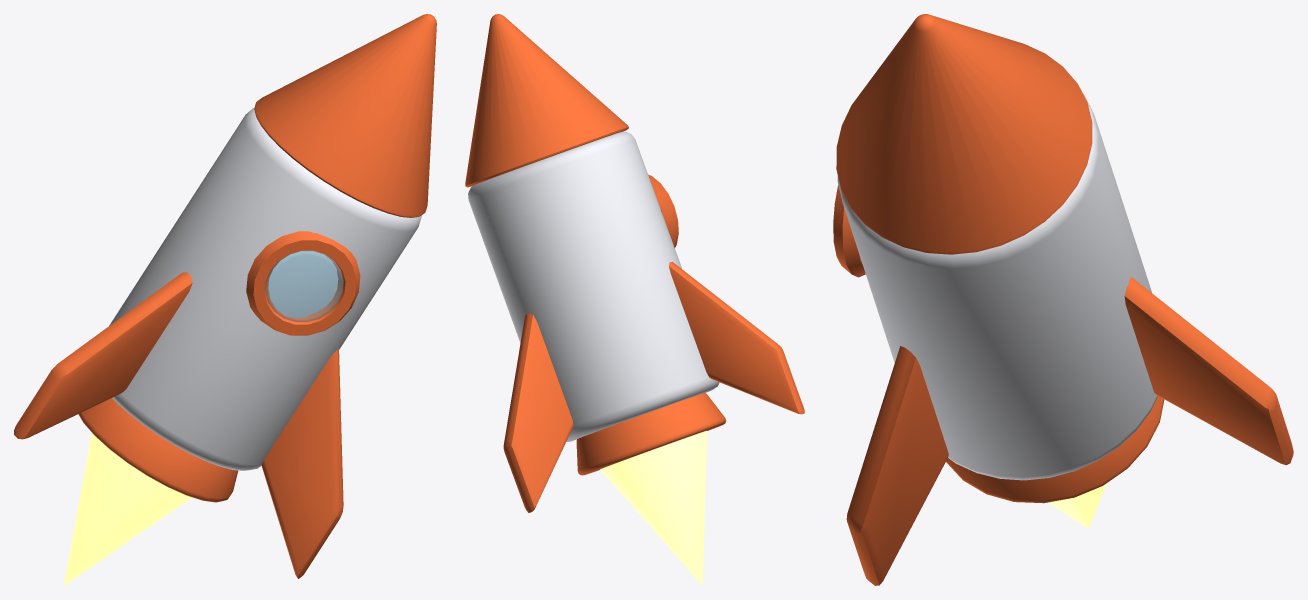
File: Rocket.fbx
3 views of the same model, side by side, from view 1: azimuth 30°, elevation 25°; view 2: azimuth 150°, elevation 25°; view 3: azimuth 270°, elevation 25° (orthographic). The views are drawn at different scales.
Parts seen in each view (by area): view 1: Rocket_Trim, Rocket_Body, Rocket_Neon, Rocket_Glass; view 2: Rocket_Body, Rocket_Trim, Rocket_Neon; view 3: Rocket_Trim, Rocket_Body, Rocket_Neon.
Part boxes in pixels (x1,y1,x2,y2): Rocket_Trim: [14, 14, 436, 578]; Rocket_Body: [109, 107, 421, 470]; Rocket_Neon: [64, 432, 192, 585]; Rocket_Glass: [265, 250, 343, 322]; Rocket_Body: [468, 131, 719, 441]; Rocket_Trim: [465, 14, 804, 512]; Rocket_Neon: [600, 430, 706, 585]; Rocket_Trim: [833, 14, 1293, 585]; Rocket_Body: [837, 93, 1157, 480]; Rocket_Neon: [1048, 484, 1105, 528].
Bounding box in the file's own units: 2.26 × 3 × 1.78.
